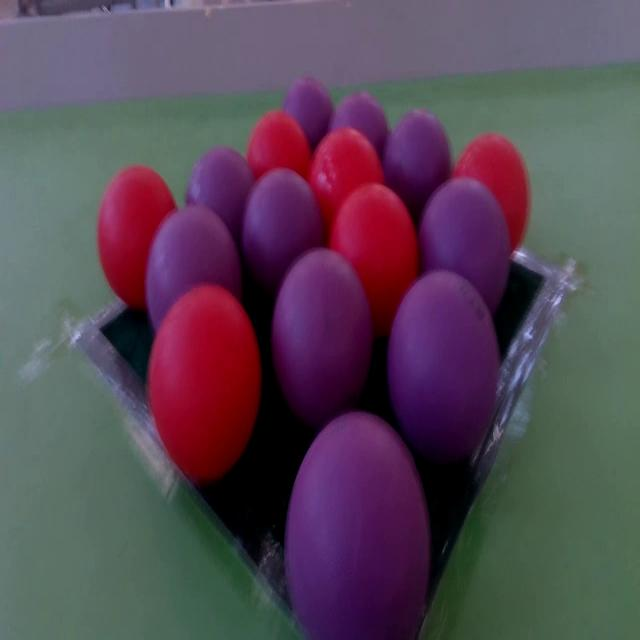invalid: (282, 415, 427, 640), (388, 268, 494, 464), (274, 248, 368, 420), (420, 178, 511, 322), (146, 208, 243, 336), (236, 167, 319, 287), (387, 109, 449, 202), (189, 150, 250, 234), (326, 91, 389, 161), (278, 80, 332, 146)
red: (148, 282, 262, 482), (330, 182, 417, 336), (97, 164, 178, 311), (454, 133, 530, 260), (307, 126, 385, 232), (248, 112, 310, 188)
